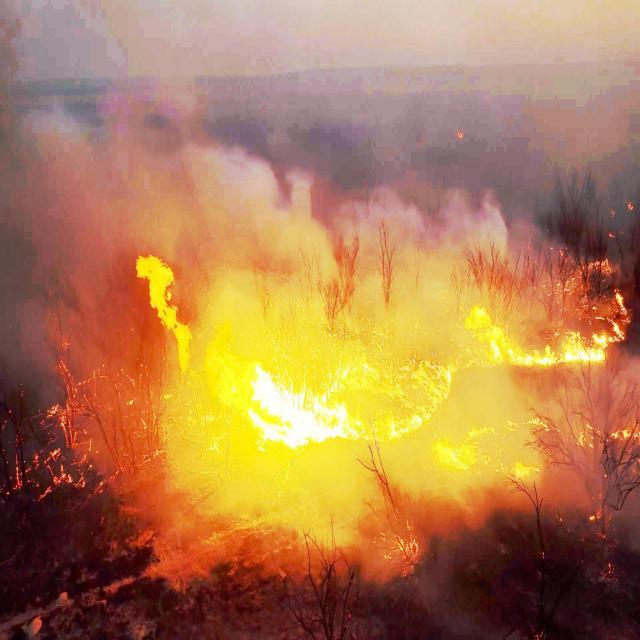Fire: (210, 352, 370, 456), (469, 300, 604, 368), (372, 352, 448, 436)
Smoke: (195, 142, 325, 294)
